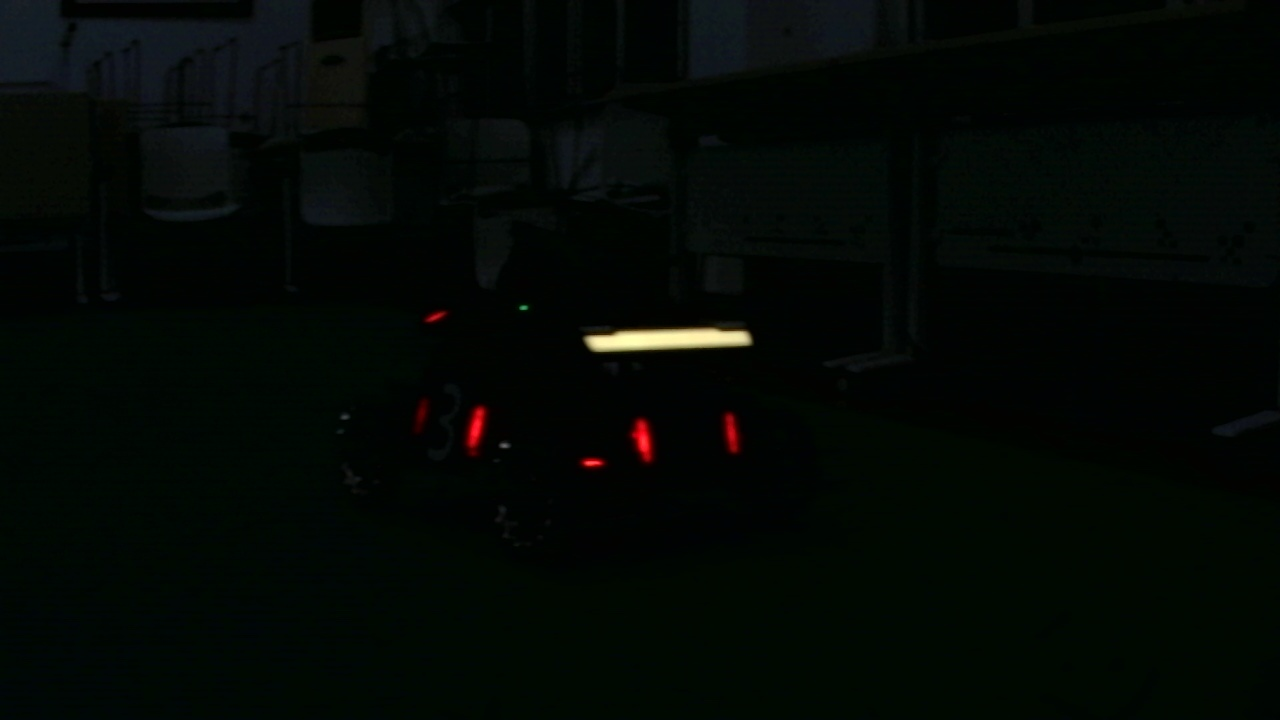lamp: (629, 410, 659, 476), (467, 398, 482, 455), (722, 411, 740, 457)
notpair1: (463, 398, 652, 469)
pair1: (634, 412, 740, 459)
